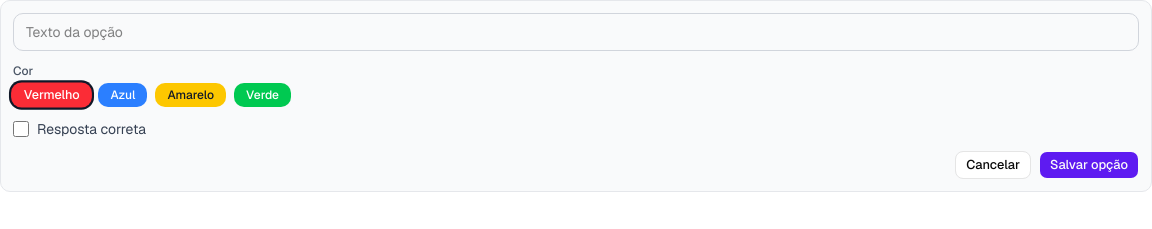
Test: AnswerOptionForm › when one option is marked correct › should show warning that existing correct option will be replaced
What coordinates should you click on to do the following:
click the checkbox with test id "chk-toggle-correct"
I would click on:
 (21, 129)
Its box is [13,121,29,137].
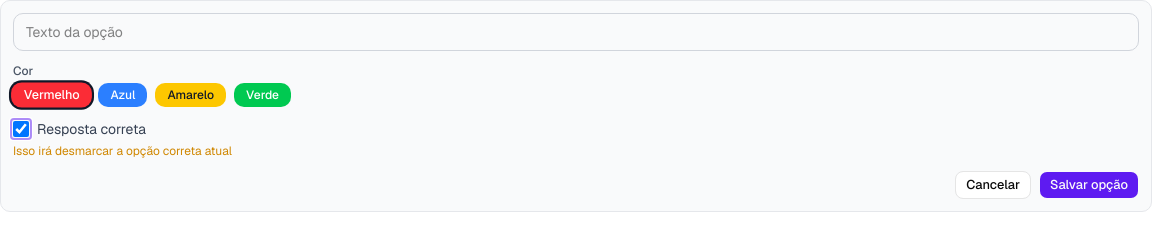
Check: the text "Isso irá desmarcar a opção correta atual" is shown, box [13,143,232,159]
